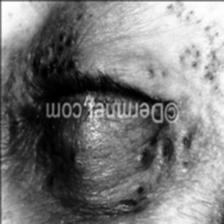Non-Cancerous Skin Condition: (33, 38, 76, 70), (162, 0, 192, 28), (204, 56, 220, 84), (146, 68, 154, 78), (192, 58, 197, 68)
